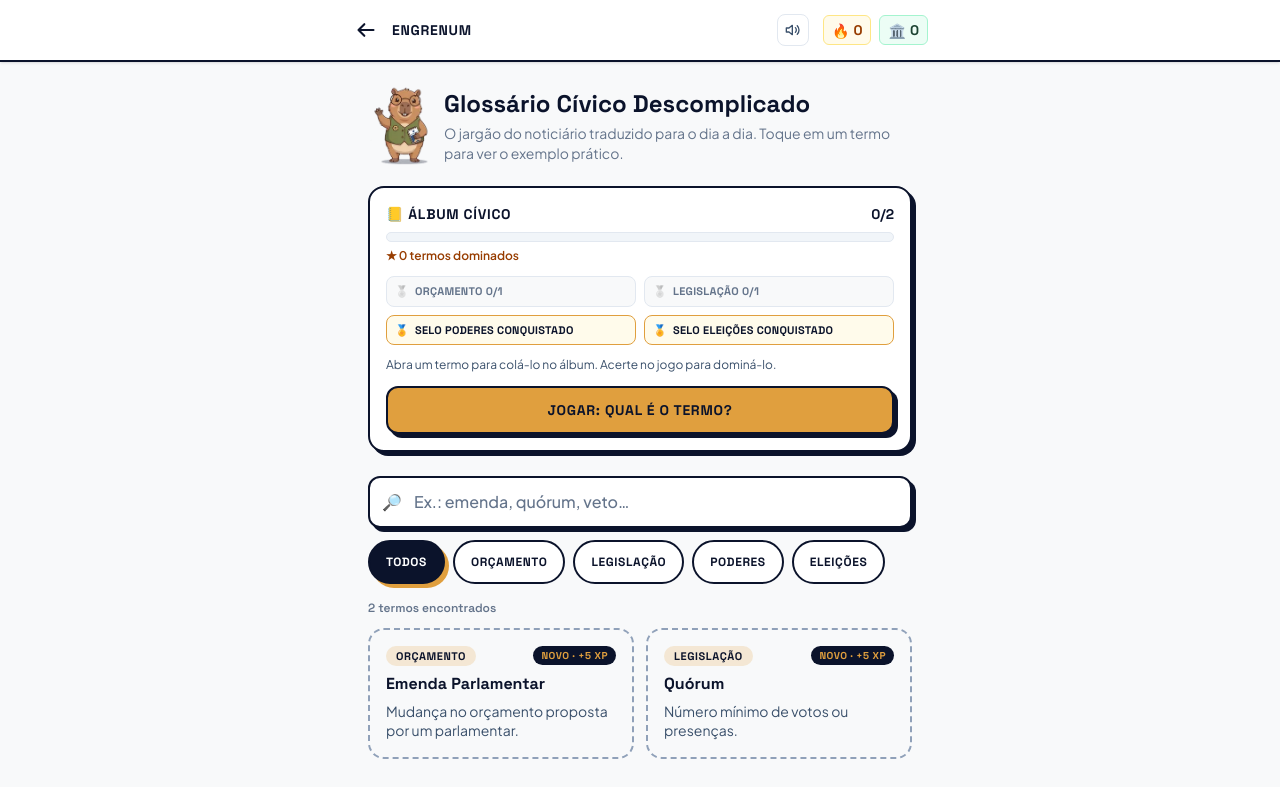
Test case: CivicGlossary › shows an empty state that clears the search and the category
Click the button "Eleições" at (838, 562), box [792,540,885,584]
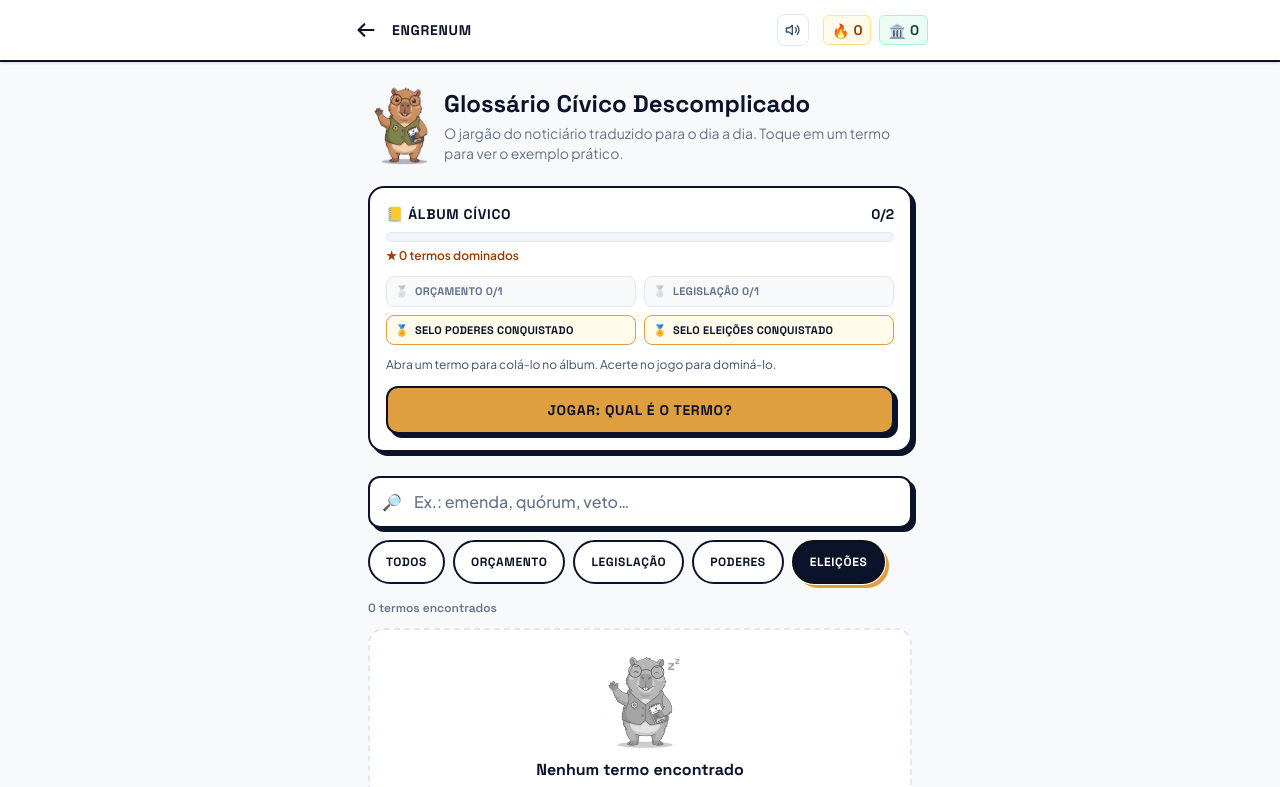
Type "xyz" into the search field at (640, 502), box [368,476,912,528]
(page scrolled)
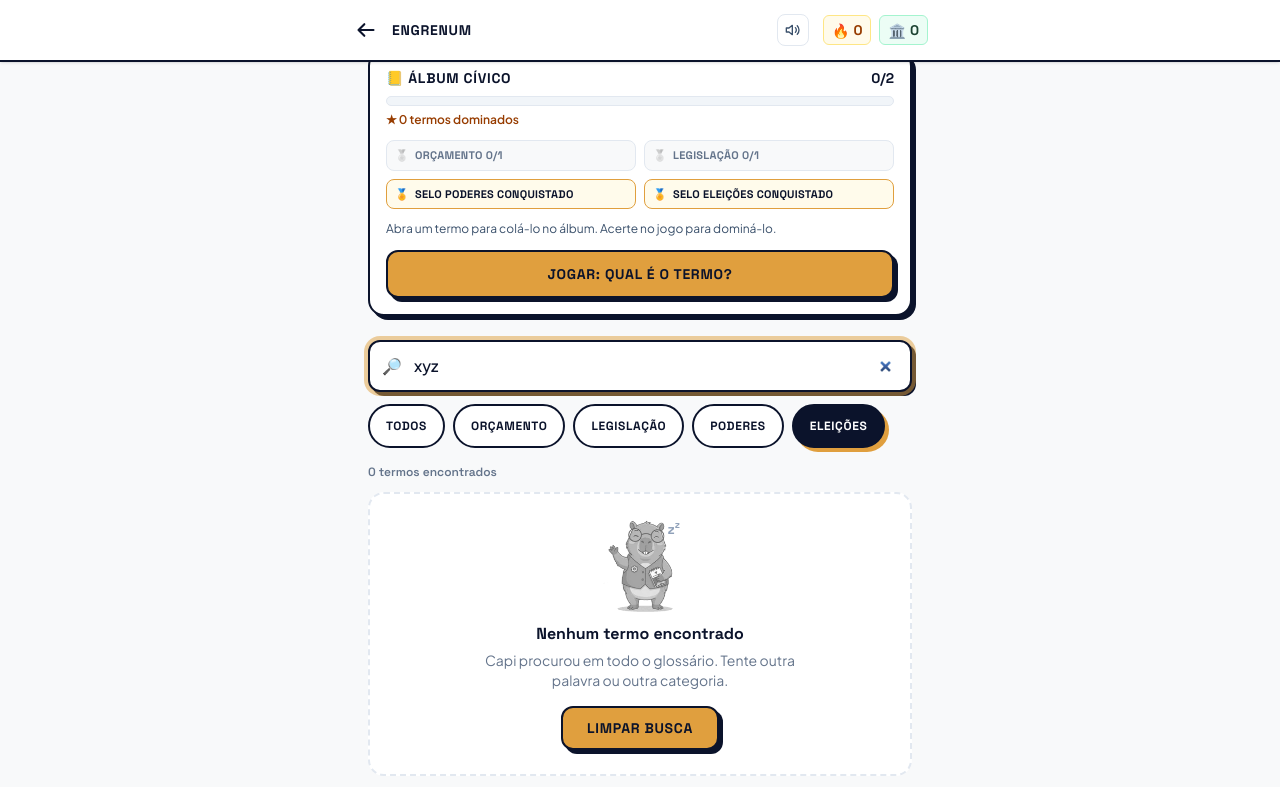
Check: the heading "Nenhum termo encontrado" is shown, box [536,622,744,646]
Click the button "Limpar busca" at (640, 728), box [561,706,719,750]
(page scrolled)
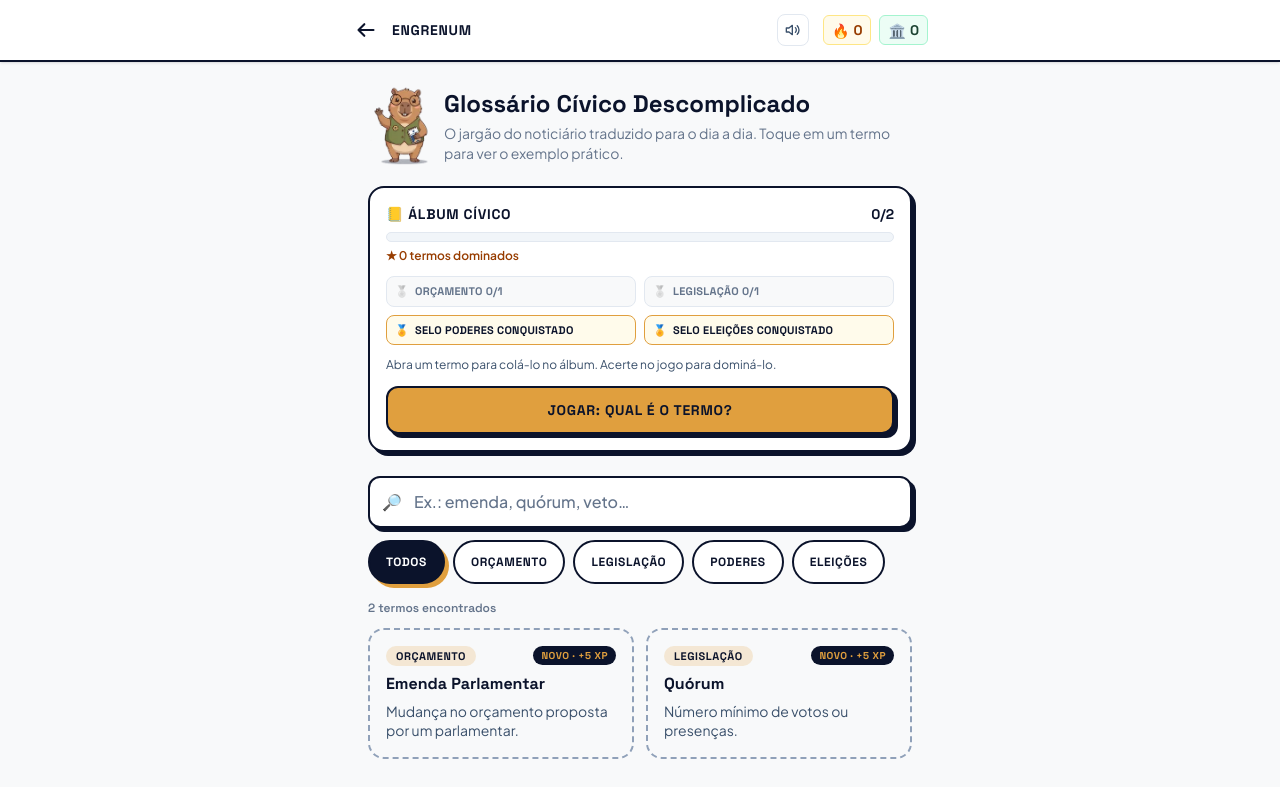
Check: the search field is empty, box [368,476,912,528]
